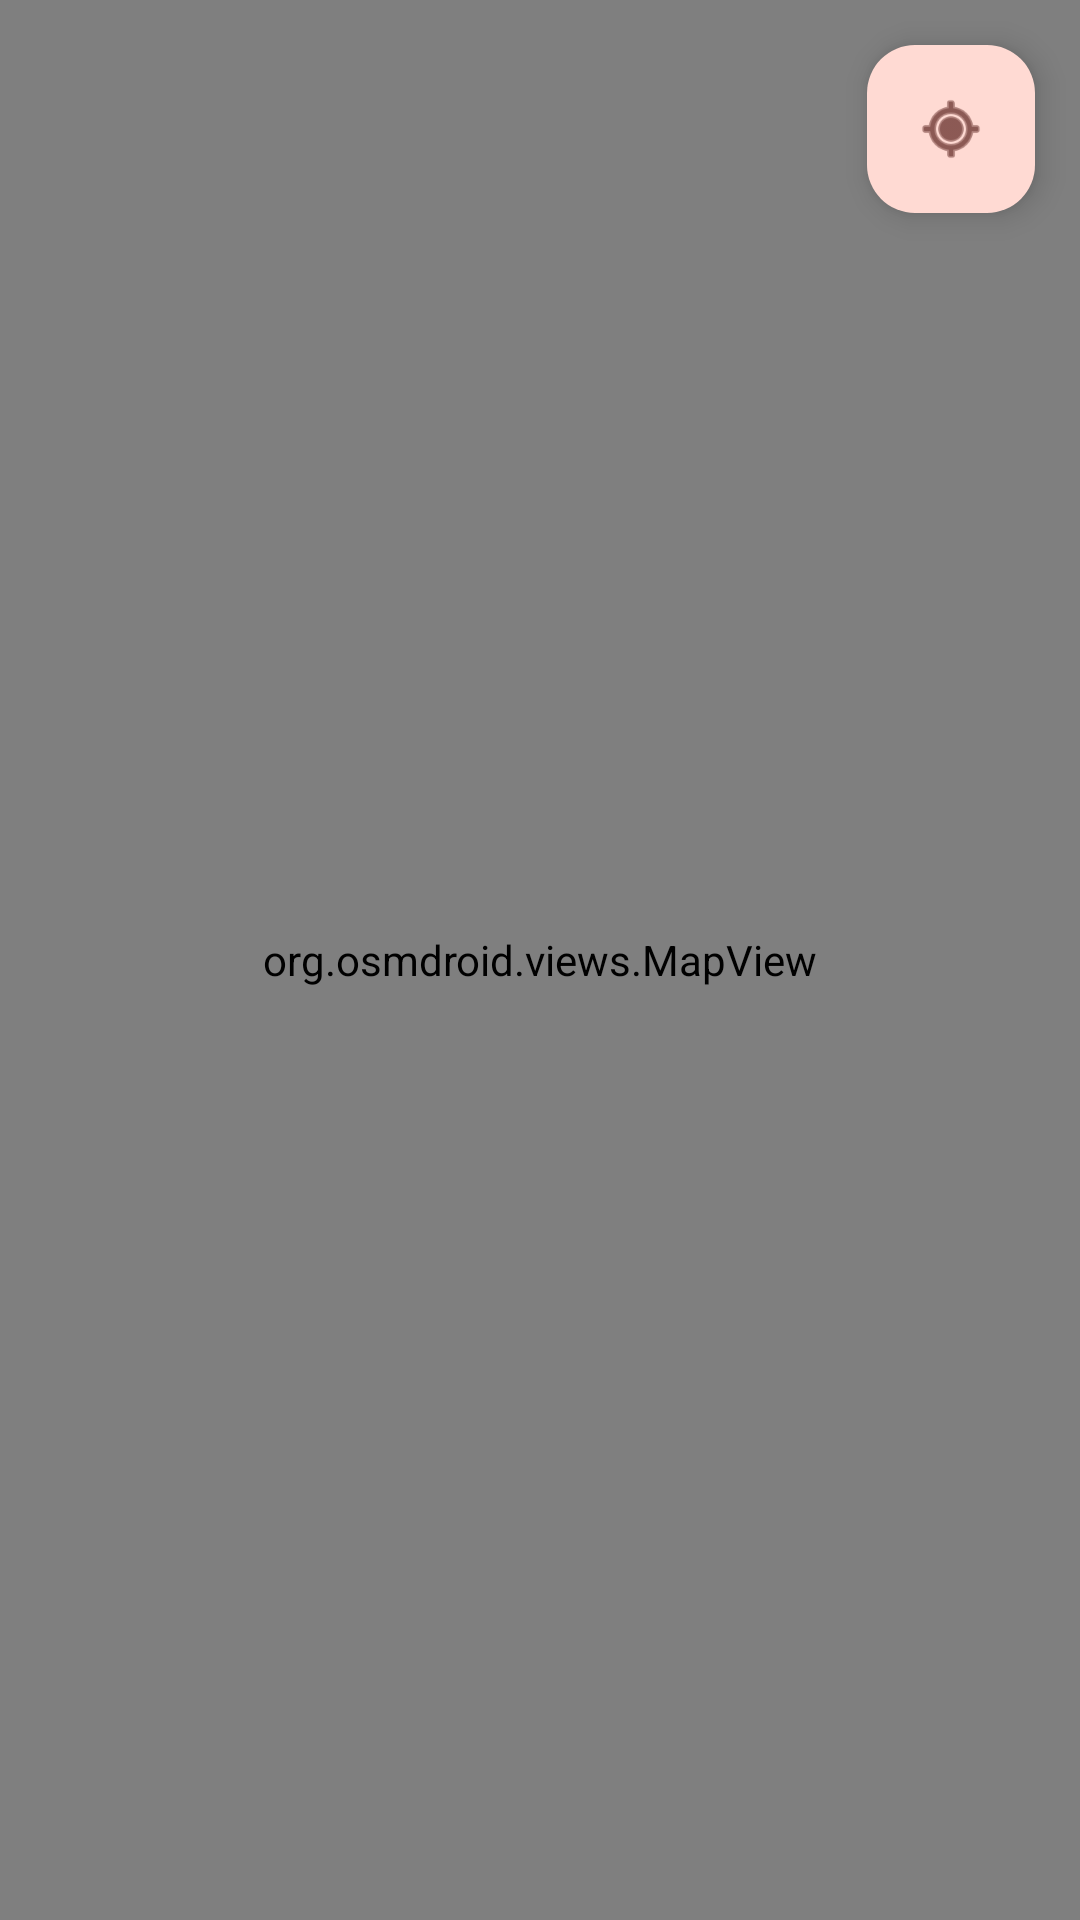

Icon bounding boxes for this 1080px×1920px phone screenshot, format {"left": x1, "top": y1, "right": x2, "bottom": y2}:
mylocation: {"left": 867, "top": 45, "right": 1035, "bottom": 213}
